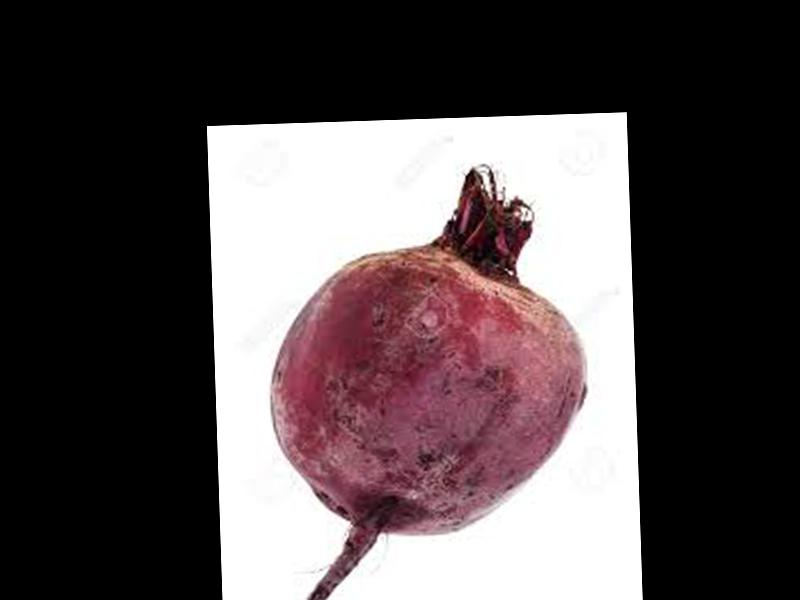Beet: (264, 165, 590, 600)
